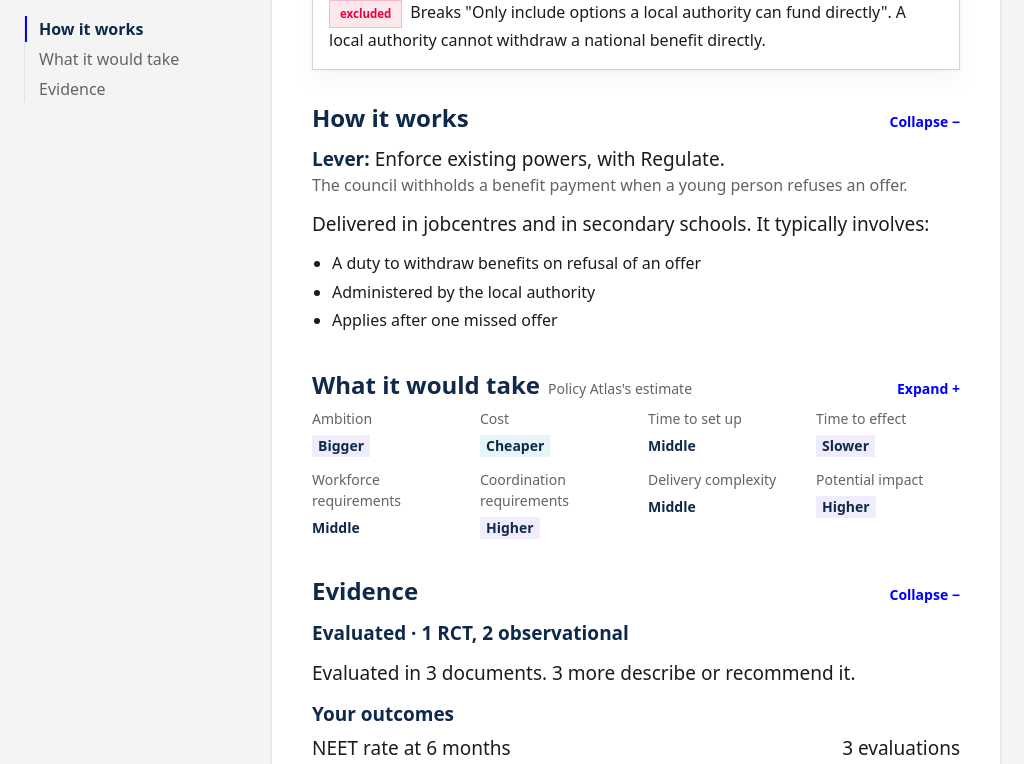
Test case: OptionCard › shows a table after a click on the heading, Ambition first, then the nine lines
(page scrolled)
Click the button "What it would take" at coordinates (636, 385), box [312,369,960,400]
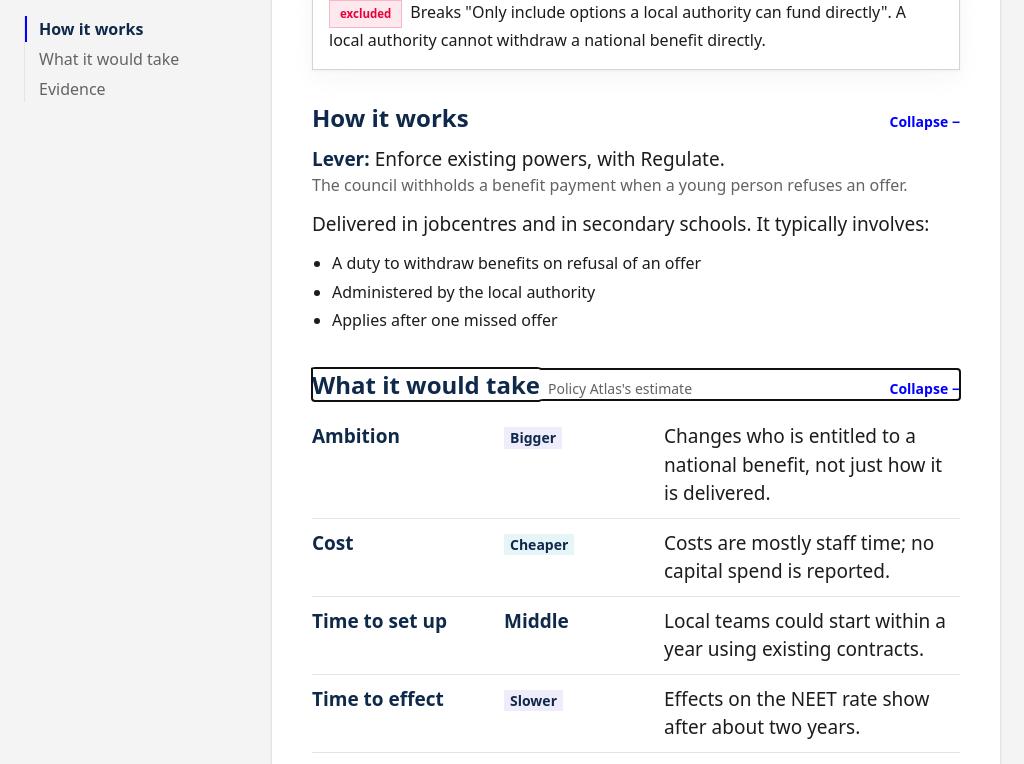
Expected: the number of rows is 10
Expected: the row that starts with "Ambition" shows "Bigger", [510,428,556,447]
Expected: the row that starts with "Ambition" shows "Changes who is entitled to a national benefit", [664,423,942,506]
